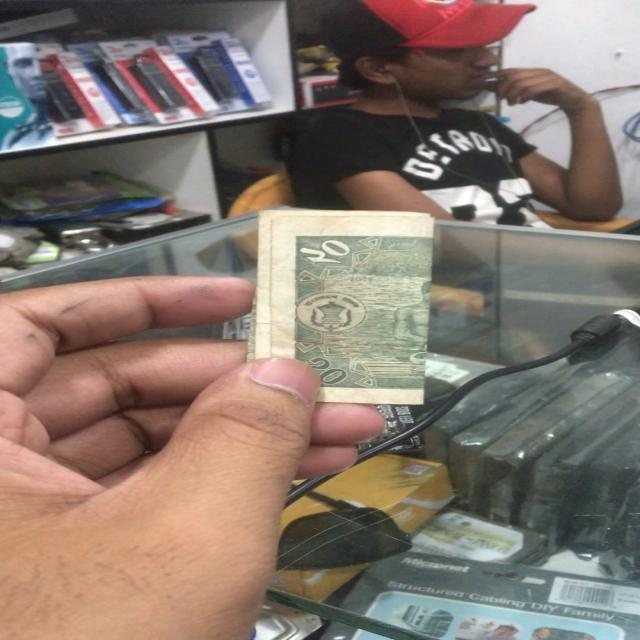Taka: (260, 214, 430, 405)
